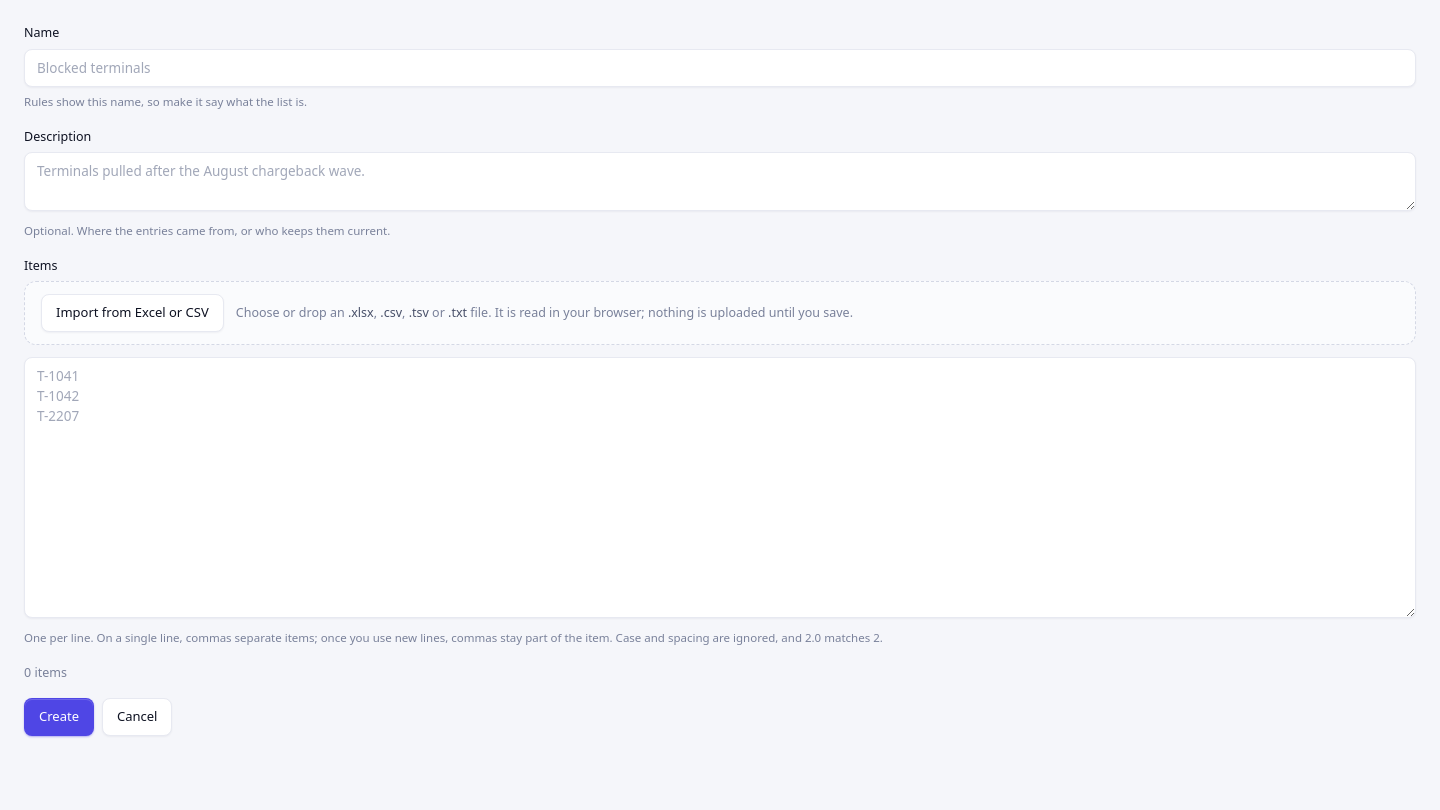
the list form › counts items live and says how many duplicates will be dropped
Type "NG, ng, GH, 2, 2.0" into the text box labelled "Items".
click(720, 487); type("NG, ng, GH, 2, 2.0")  # box [24,357,1416,618]
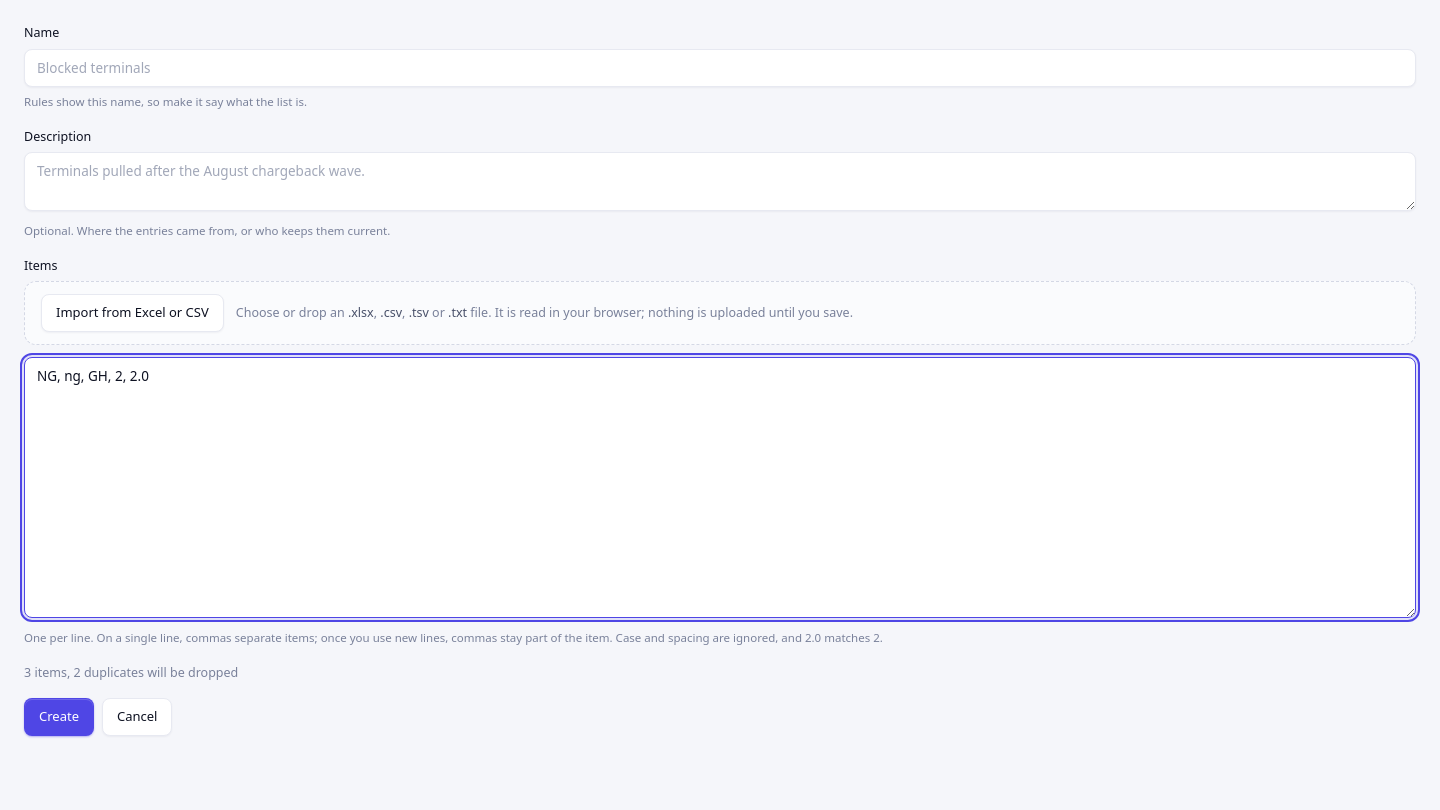
Result: the text "3 items, 2 duplicates will be dropped" is shown at [24,664,238,681]
